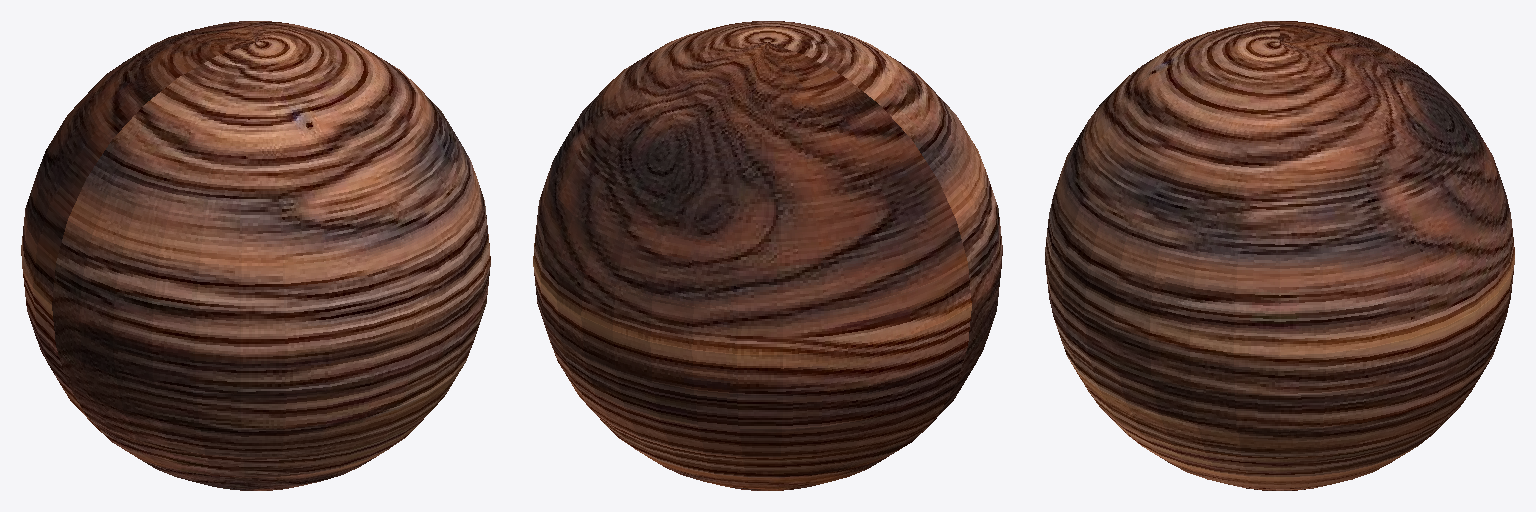
3 renders of one model, left to right at view 1: azimuth 30°, elevation 25°; view 2: azimuth 150°, elevation 25°; view 3: azimuth 270°, elevation 25°, orthographic.
Visible parts, largest first — view 1: Sphere; view 2: Sphere; view 3: Sphere.
Part boxes in pixels (x1,y1,x2,y2): Sphere: (21,21,490,490); Sphere: (533,21,1002,490); Sphere: (1045,21,1514,490).
Size of the model in its own units: 2 by 2 by 2.
Materials: 1 (1 with a texture image).